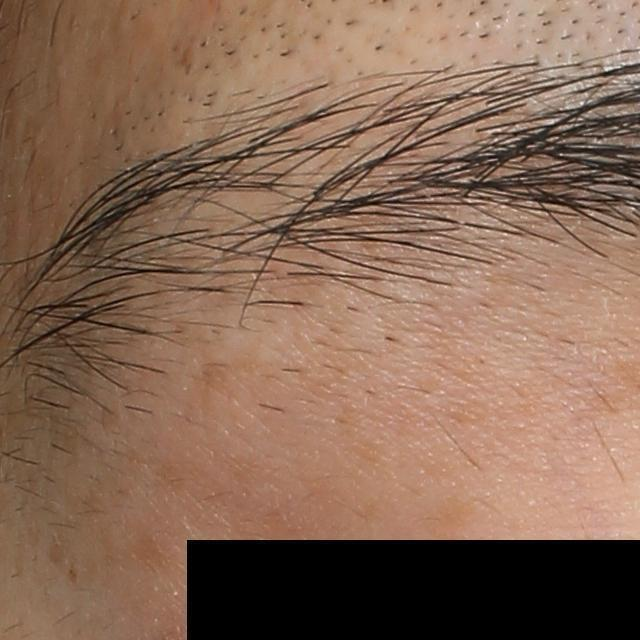melasma: (422, 489, 484, 593), (192, 357, 282, 416), (126, 524, 171, 577), (67, 559, 80, 587)
